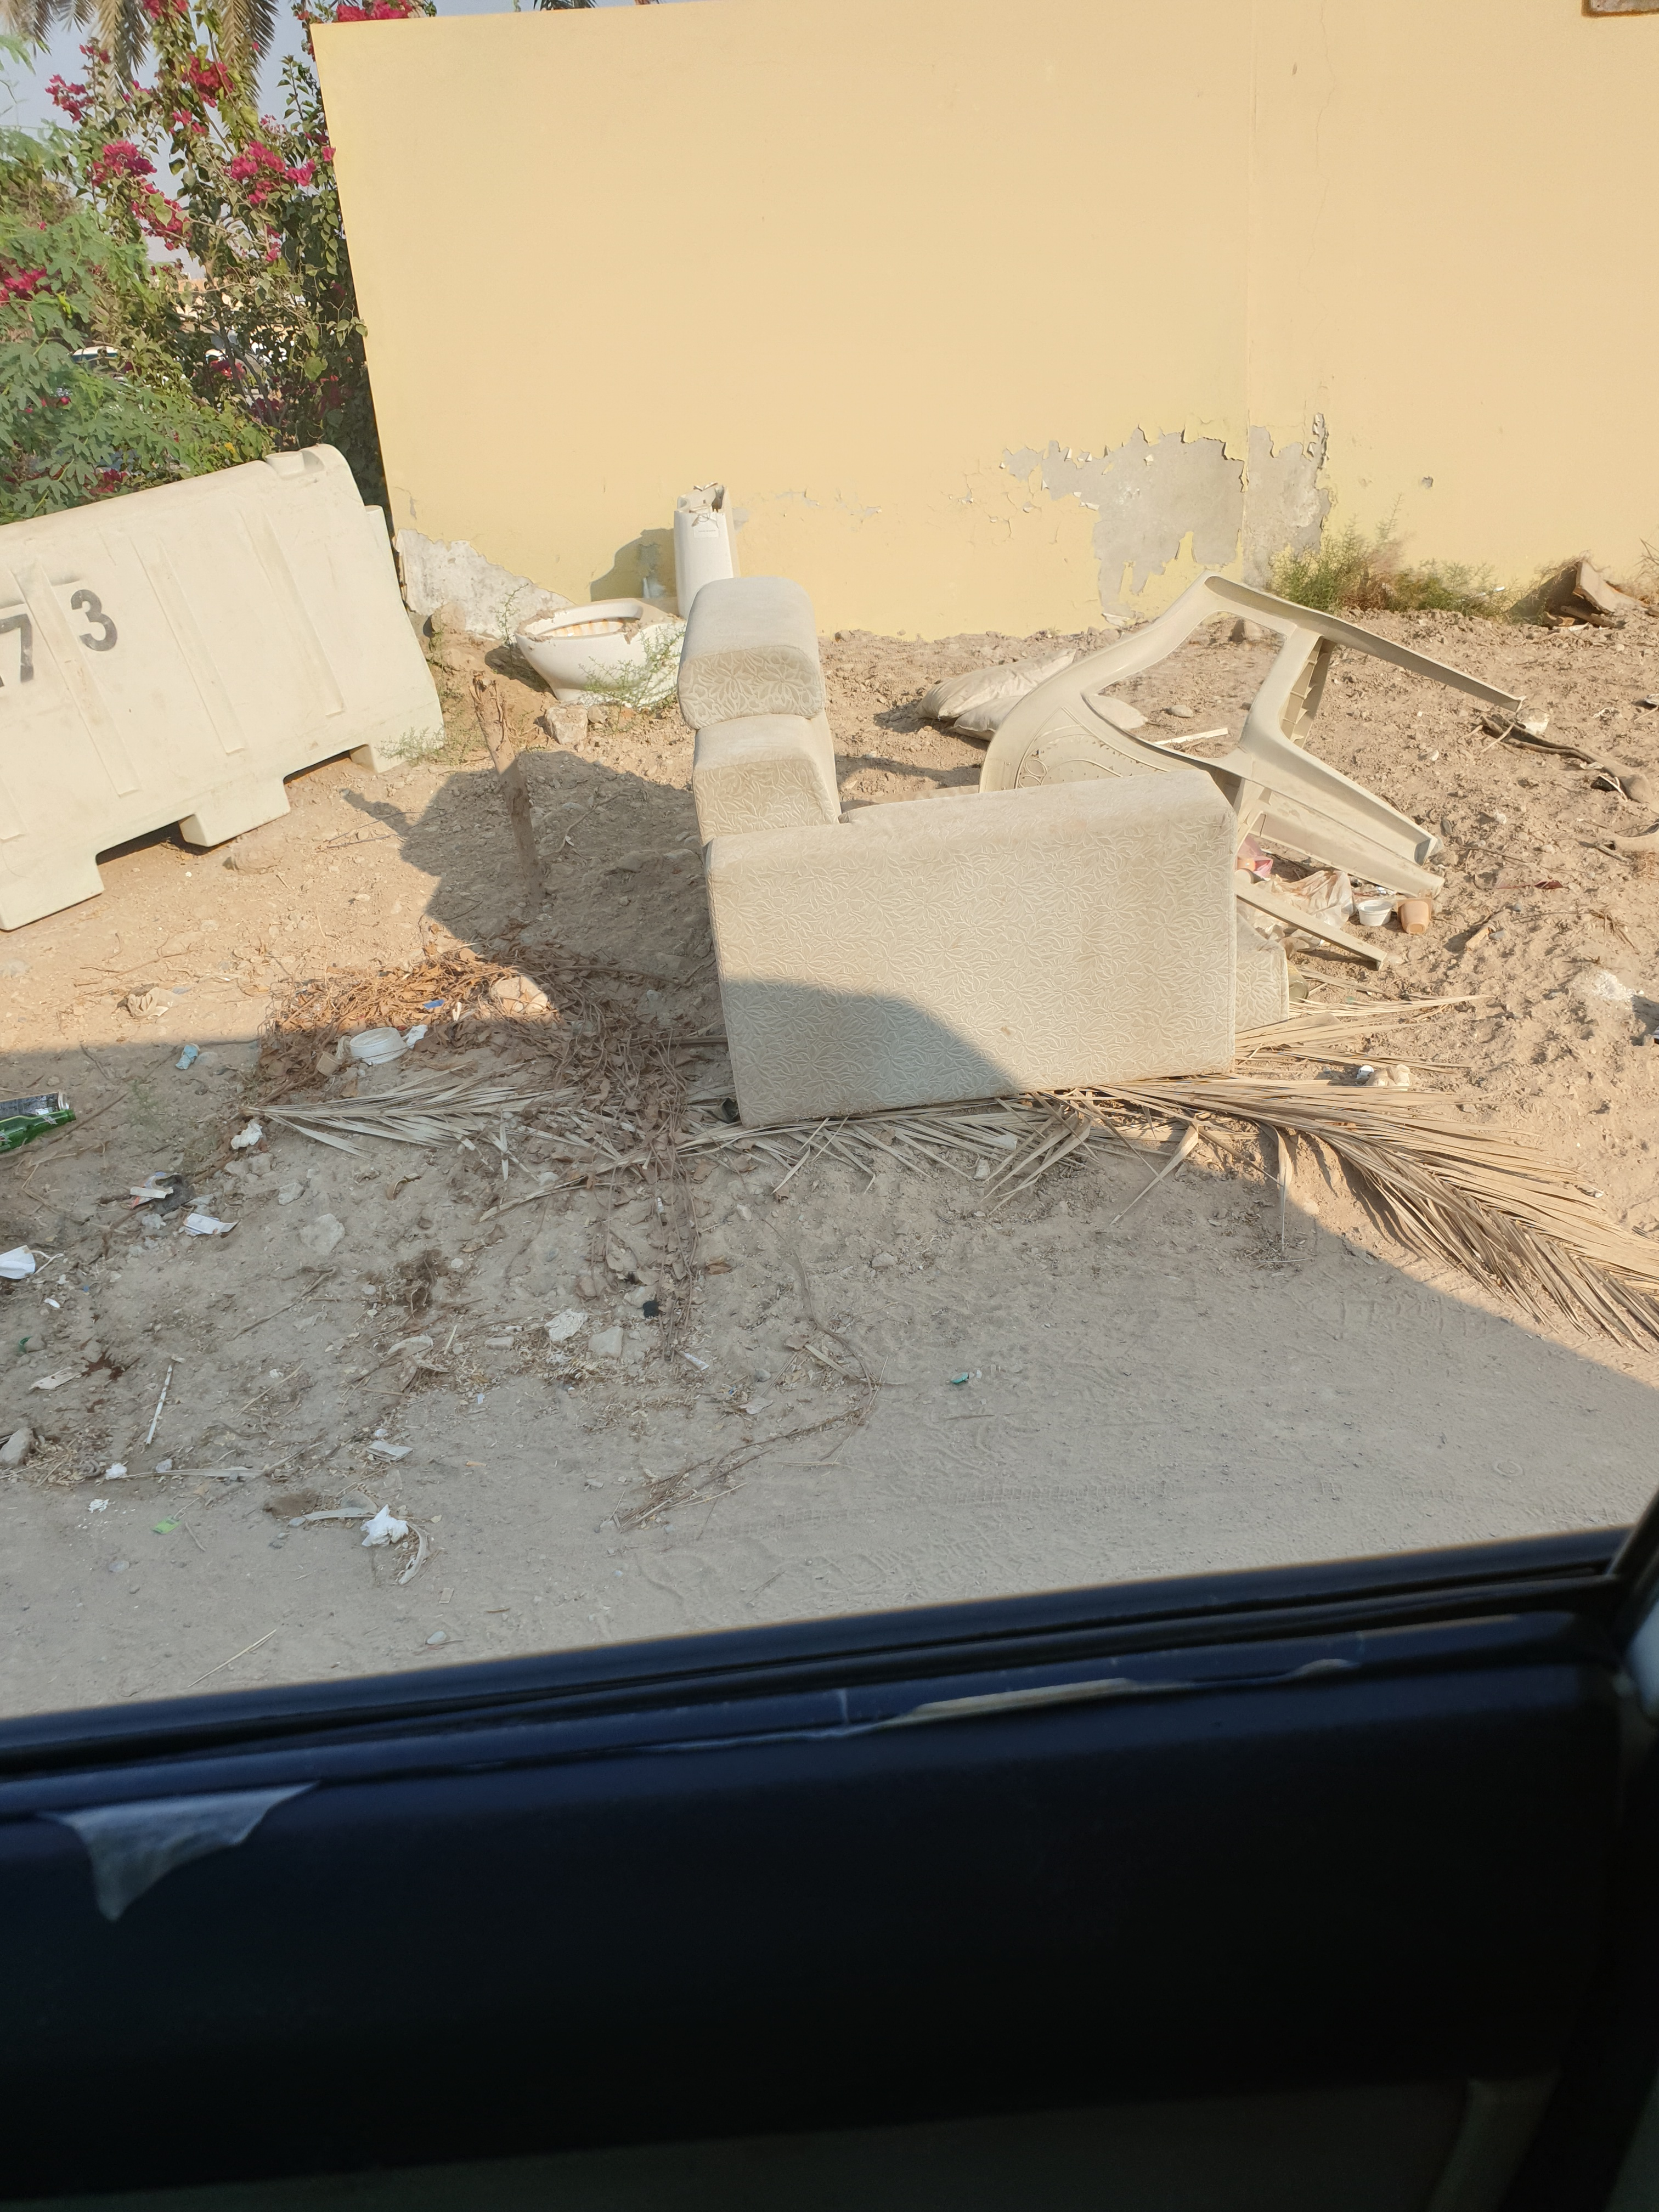fallen_trees: (237, 951, 775, 1306), (333, 1014, 772, 1275), (1148, 1118, 1654, 1312), (166, 1071, 627, 1207)
uncollected_waste: (584, 624, 1347, 1155), (636, 756, 1321, 1148), (941, 603, 1493, 975)
